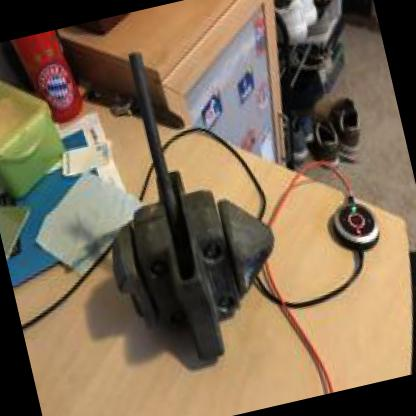Twistlock: (75, 78, 303, 378)
